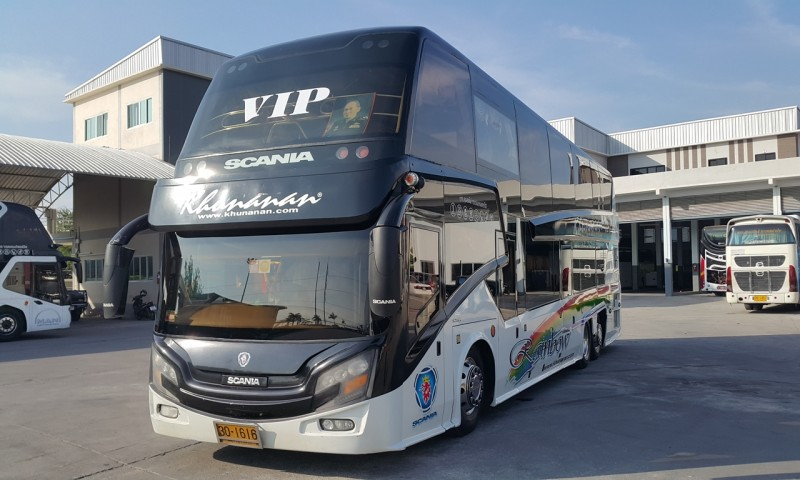bus: (145, 21, 626, 457)
